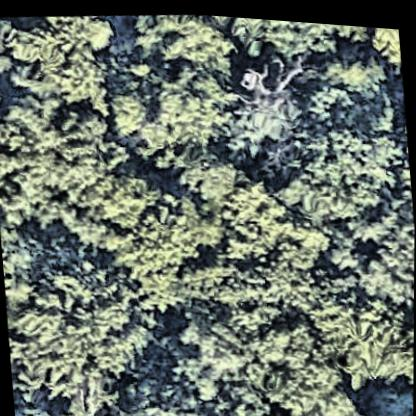tree-top: (10, 250, 151, 381), (264, 117, 399, 230), (0, 95, 115, 197), (10, 9, 119, 115), (129, 52, 232, 164), (311, 284, 414, 392), (219, 52, 306, 159), (212, 182, 286, 270), (134, 8, 231, 70), (178, 309, 253, 381), (126, 198, 192, 275), (319, 40, 387, 103), (93, 373, 191, 416), (171, 142, 235, 201)
